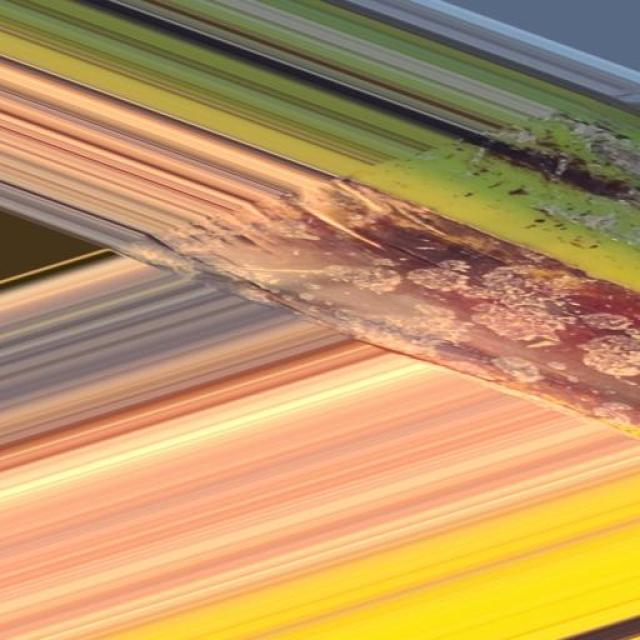Anthracnose: (0, 116, 640, 511)
